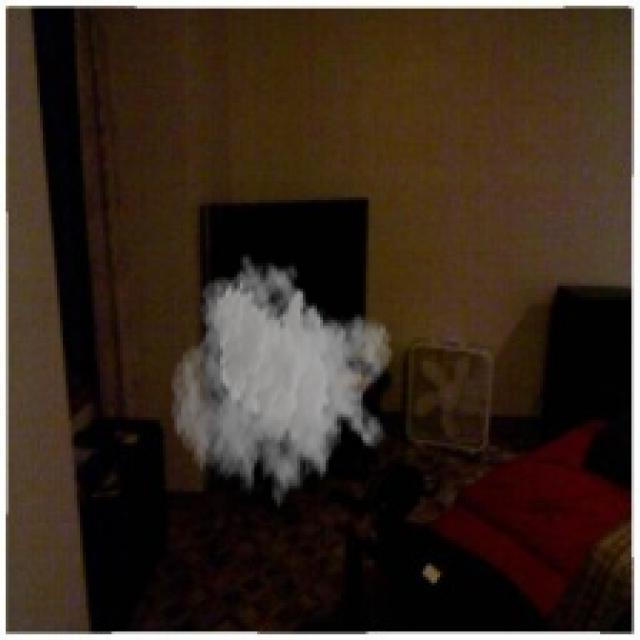smoke: (169, 252, 394, 517)
